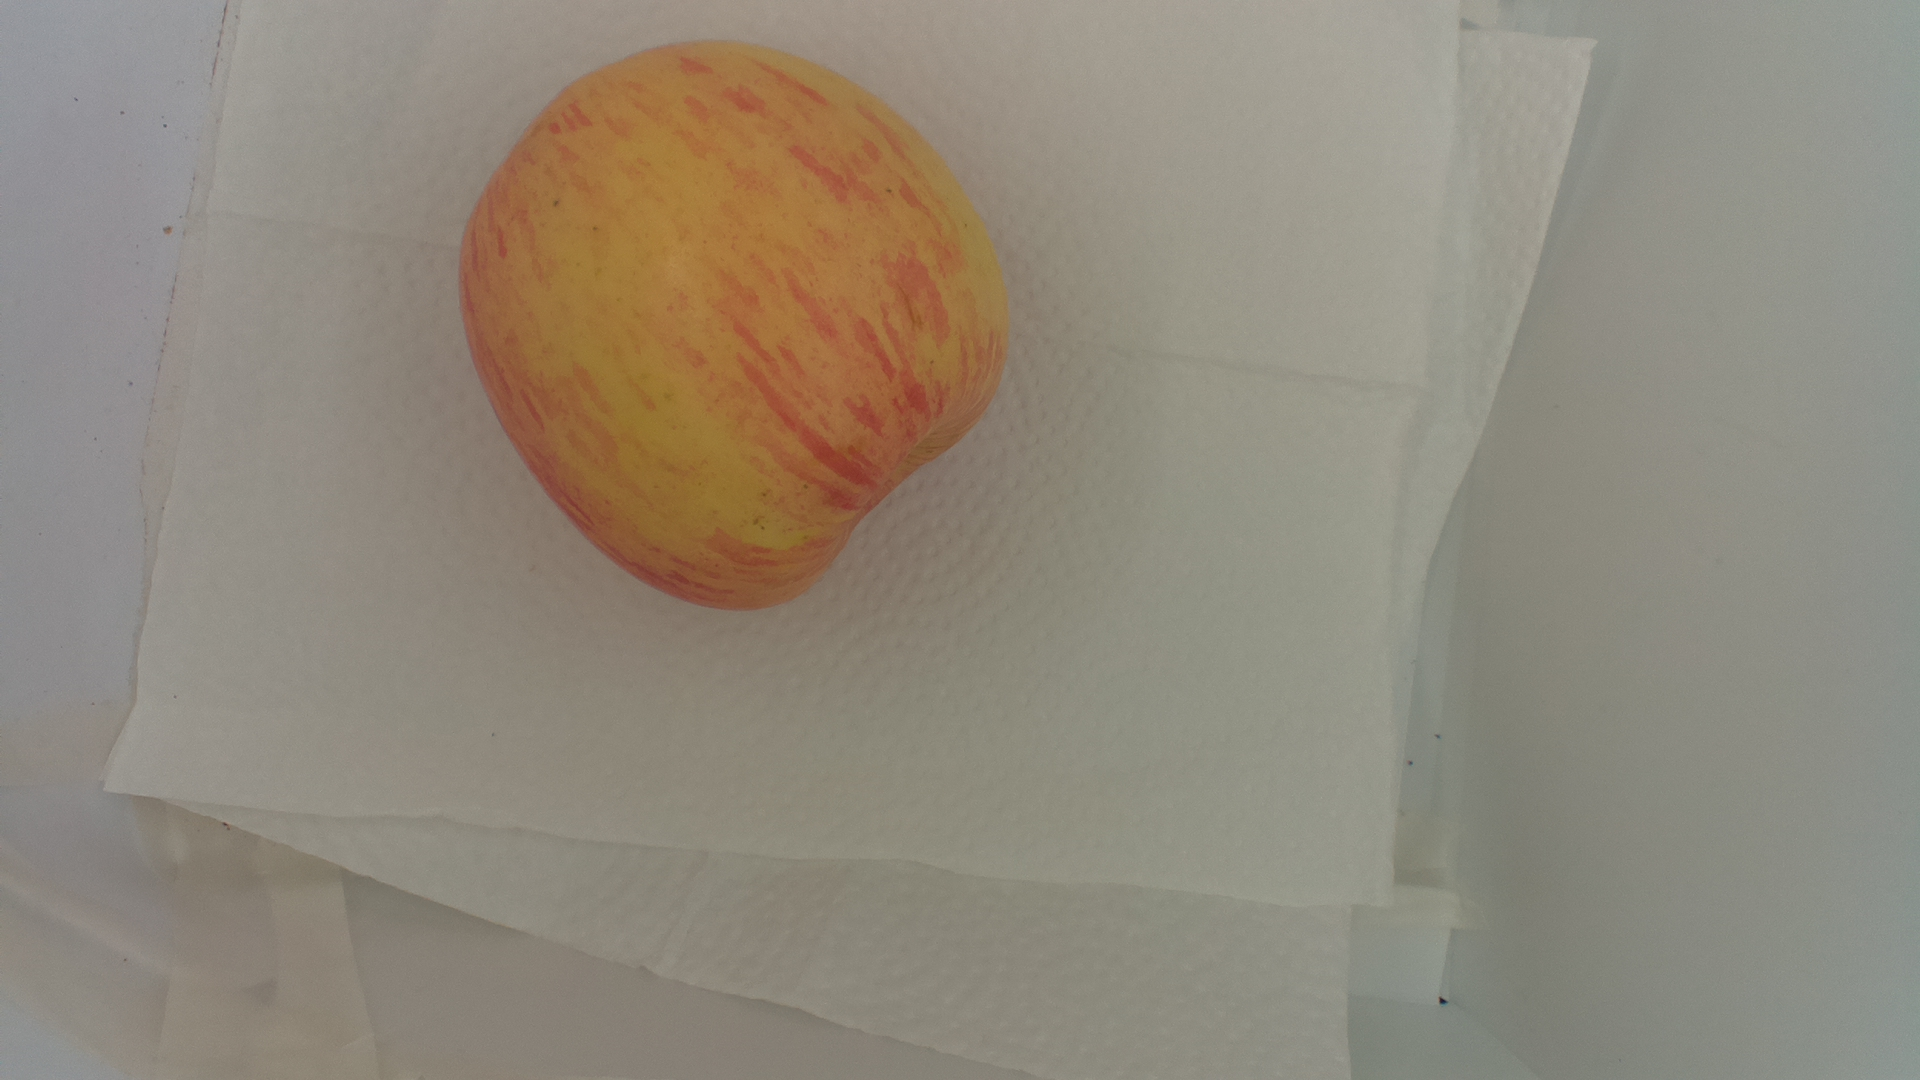fruit: (458, 40, 1018, 618)
